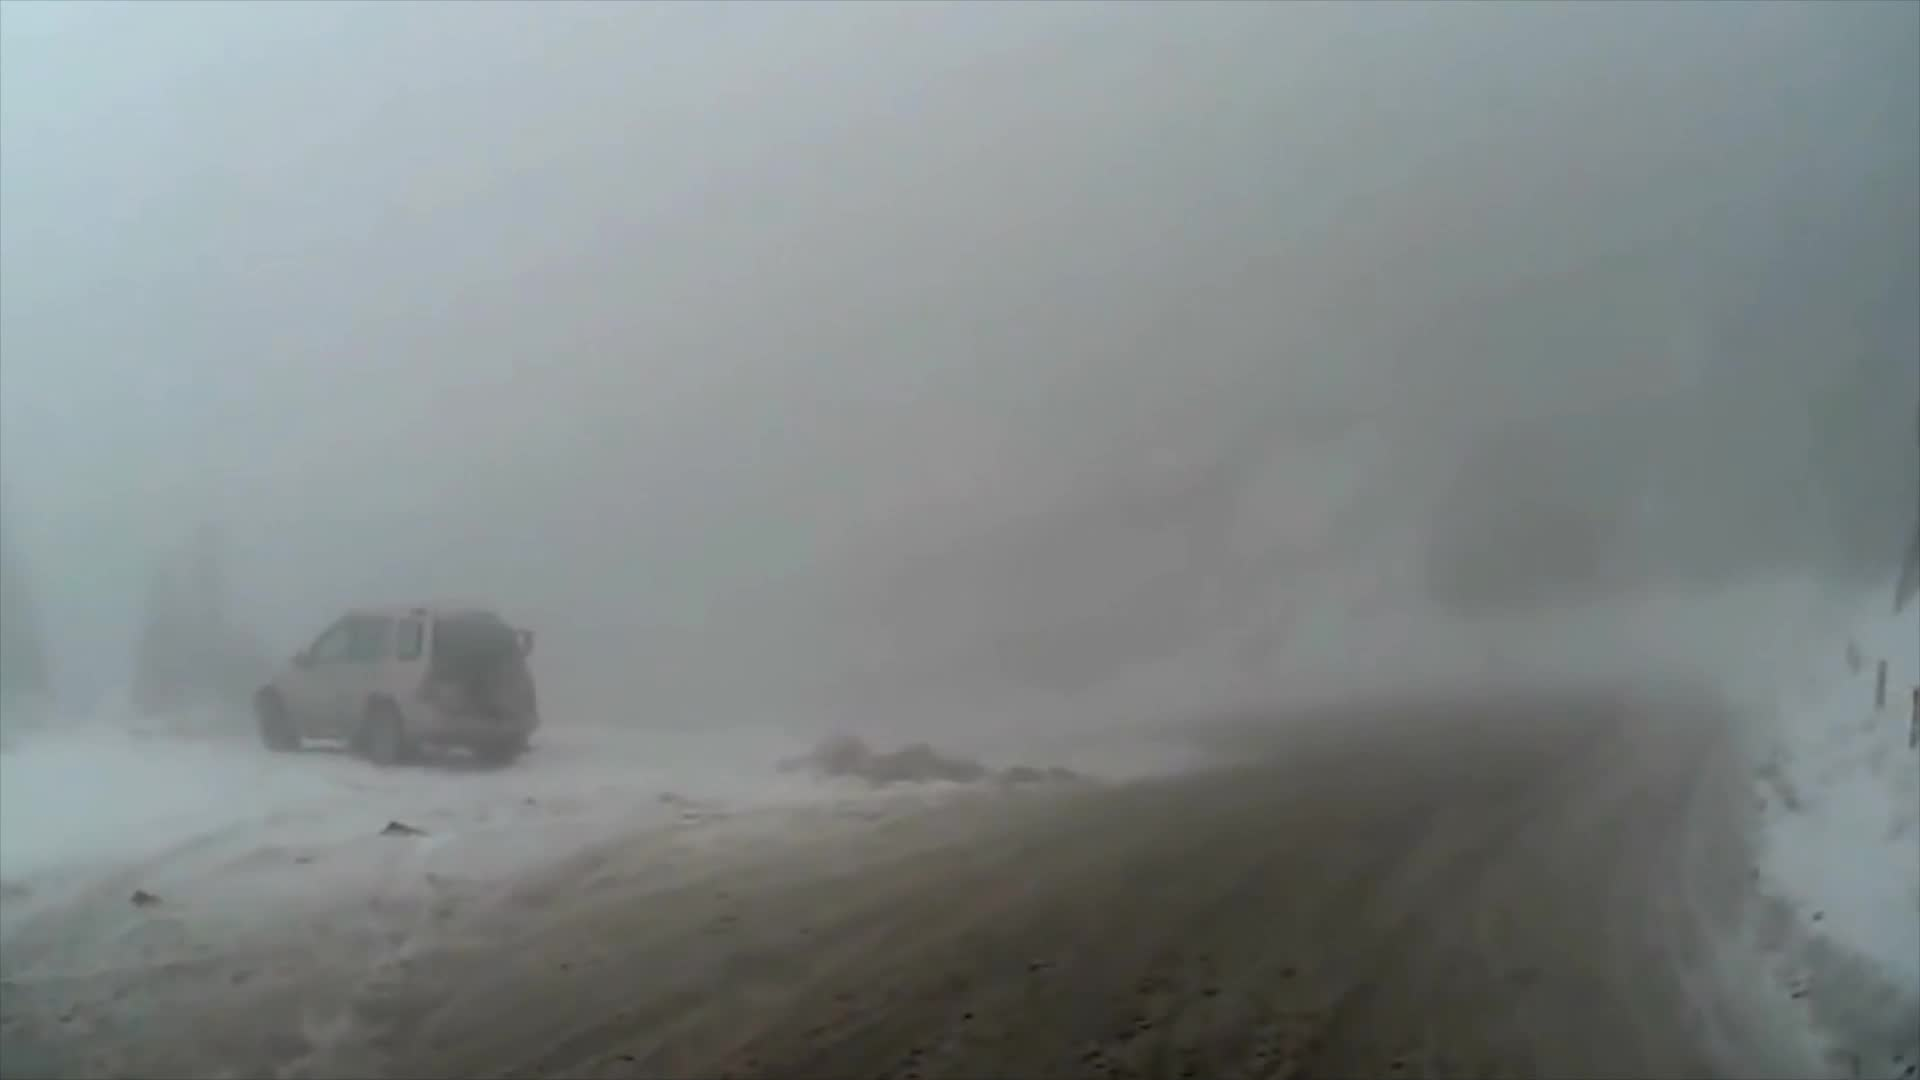vehicle: (251, 597, 533, 767)
